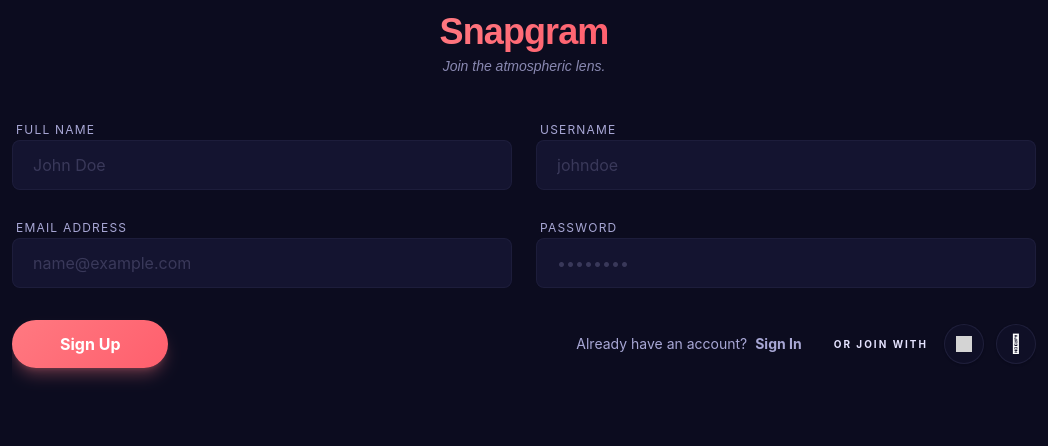
Test case: SignUpForm › should show error for password '1' below minimum length
Type "1" into the password field with placeholder "••••••••".
click(786, 263); type("1")  # box [536, 238, 1036, 288]
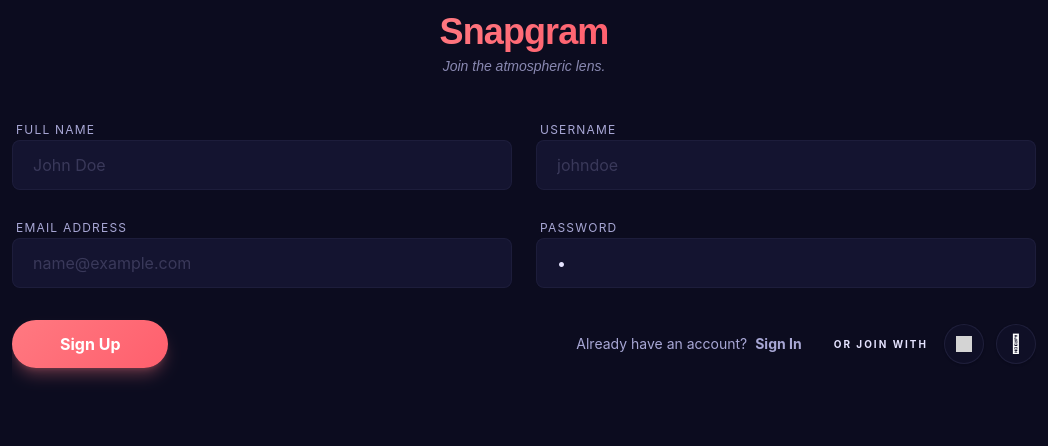
Click the button "Sign Up".
click(90, 344)  # box [12, 320, 168, 368]
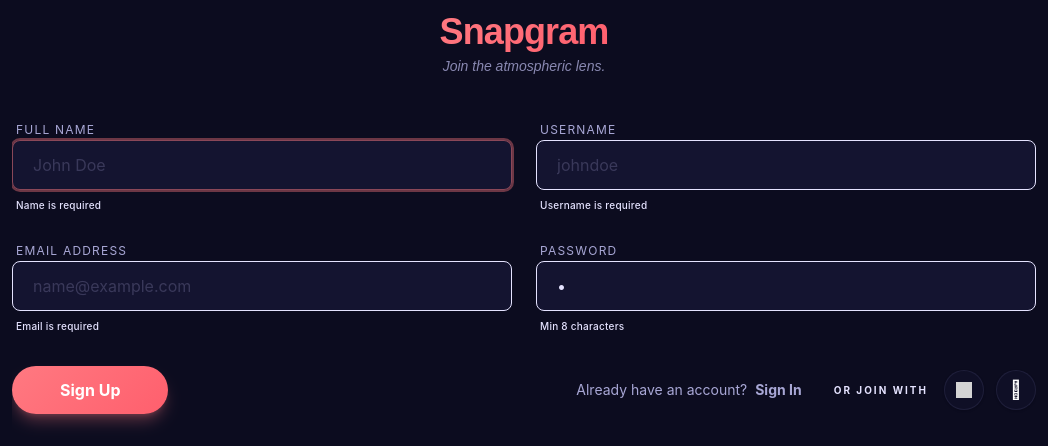
Check: the text "Min 8 characters" is shown, box [540, 320, 624, 332]
